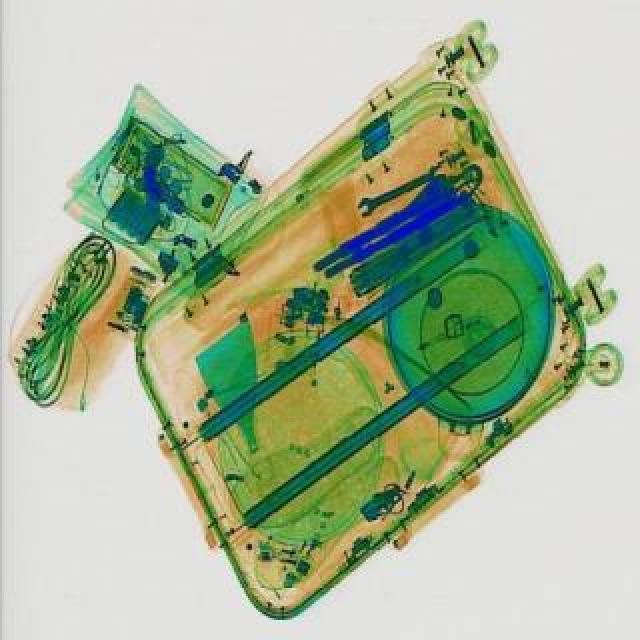scissors: (352, 158, 448, 218)
